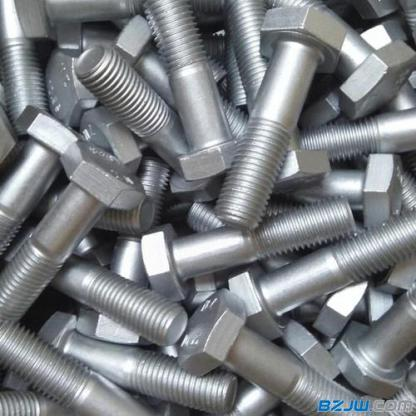FOD: (214, 4, 347, 232), (0, 137, 147, 324), (226, 207, 415, 341), (173, 290, 375, 415)
